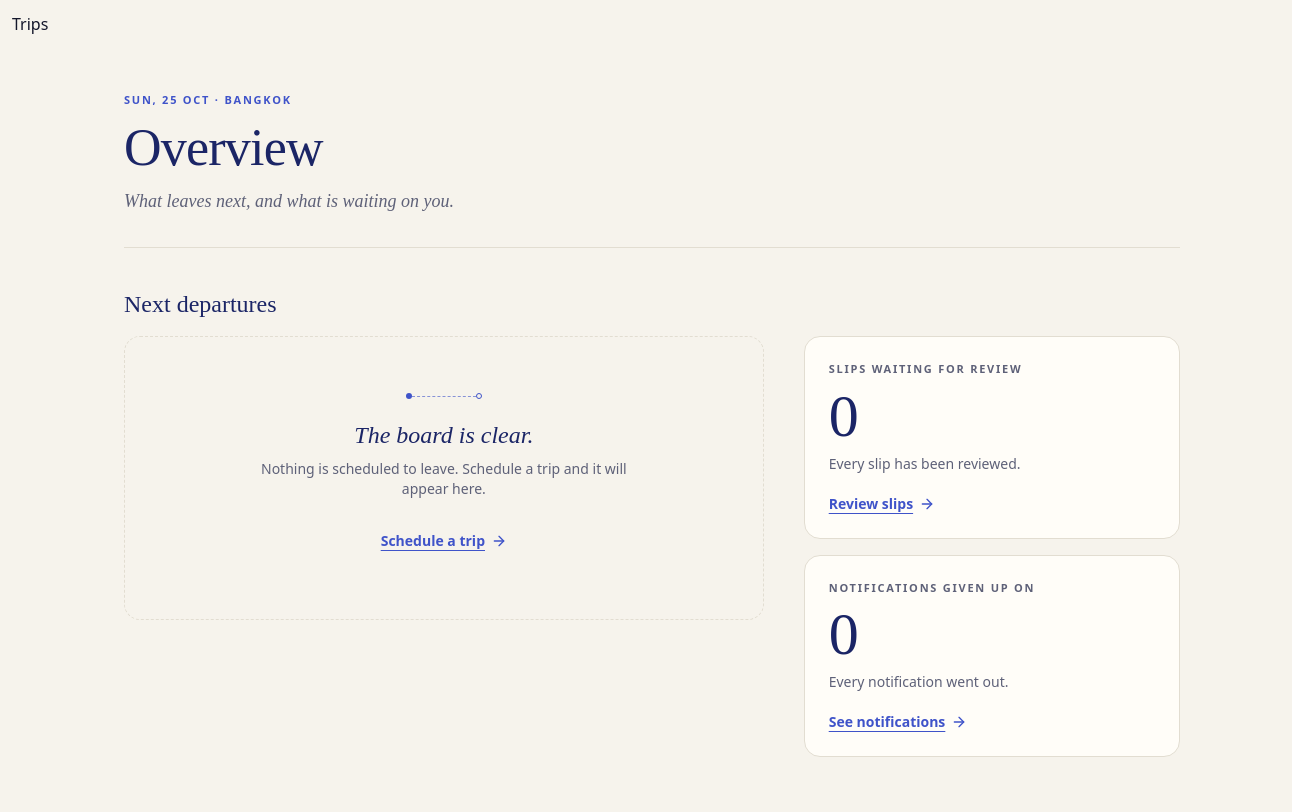
Test: AdminOverviewPage freshness › leaves the review queue to fetch its own list after the overview counted it
This screenshot has width=1292, height=812.
Expected: the text "Every slip has been reviewed." is shown, [829,454,1020,473]
Click the link "Review slips" at (882, 503), box [829,494,935,513]
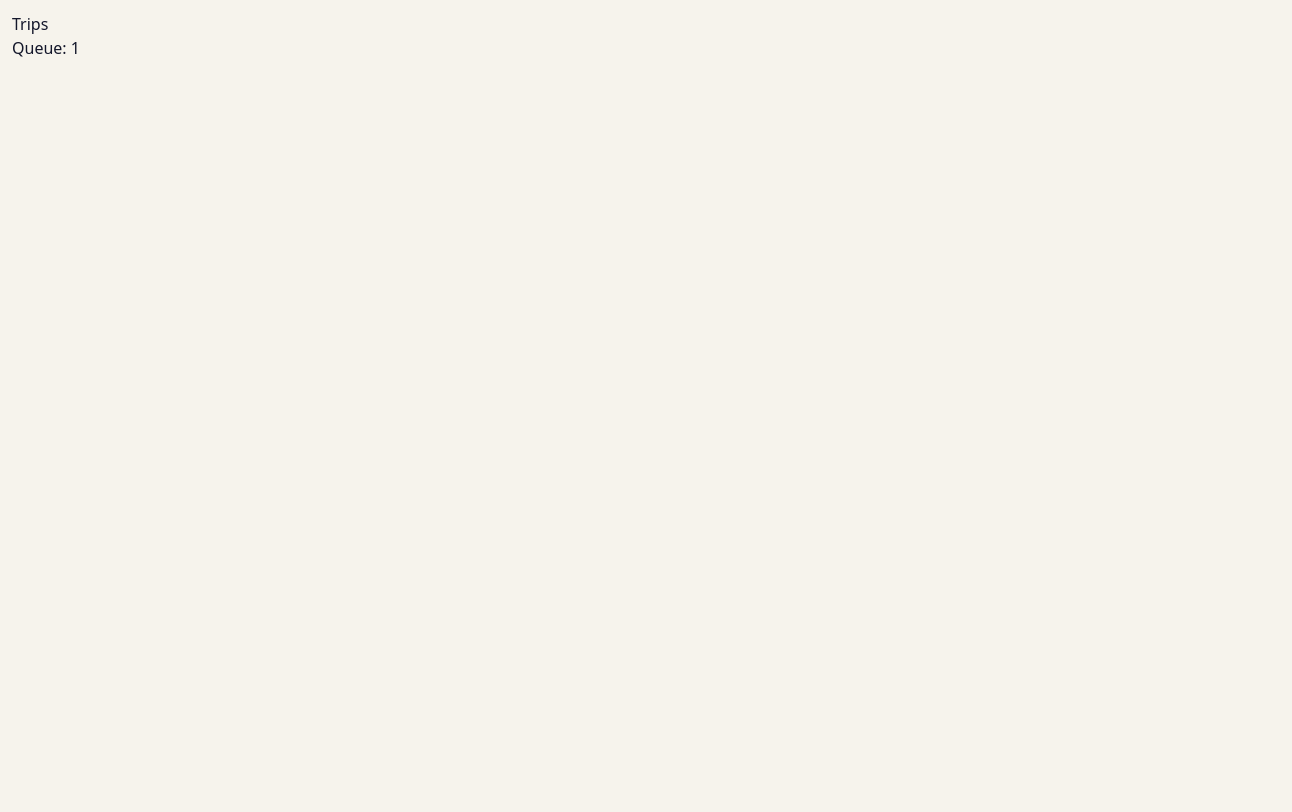
Now the text "Queue: 1" is shown, box [12,37,80,59]
